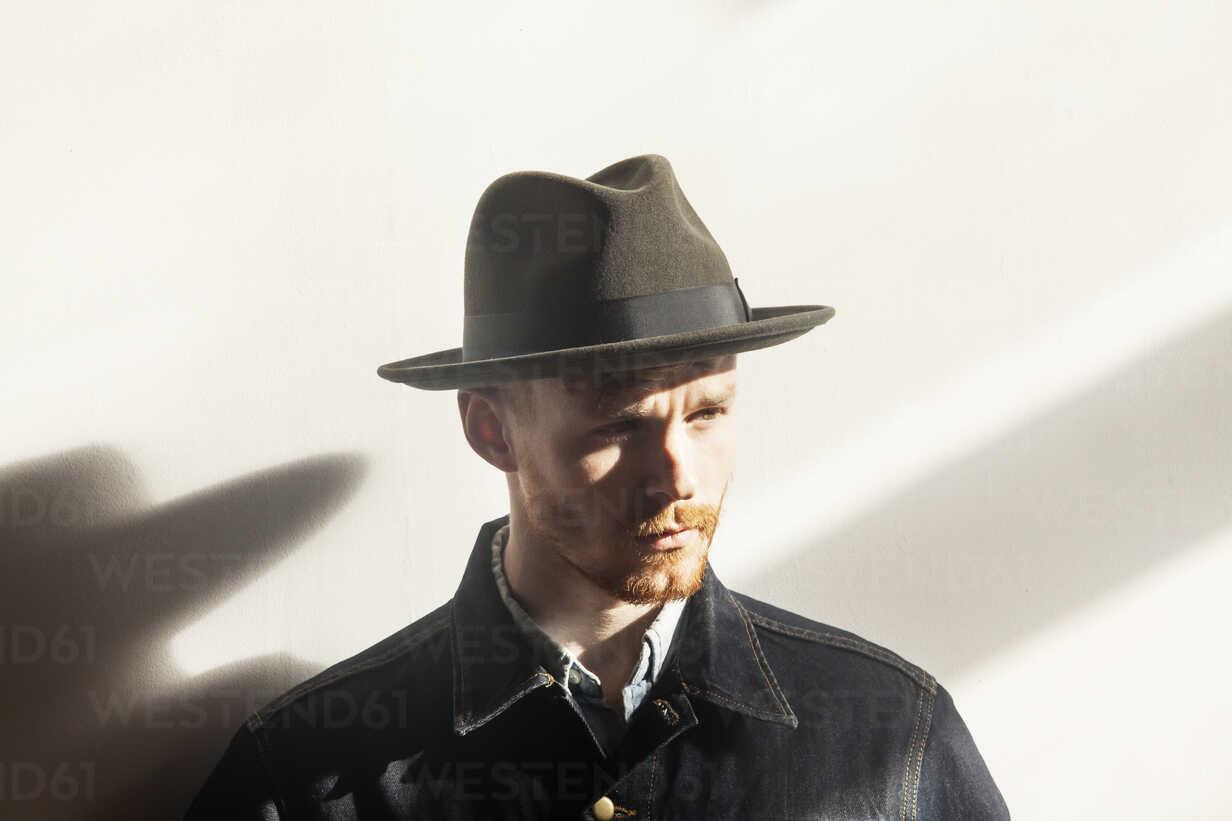cap: (368, 116, 858, 402)
